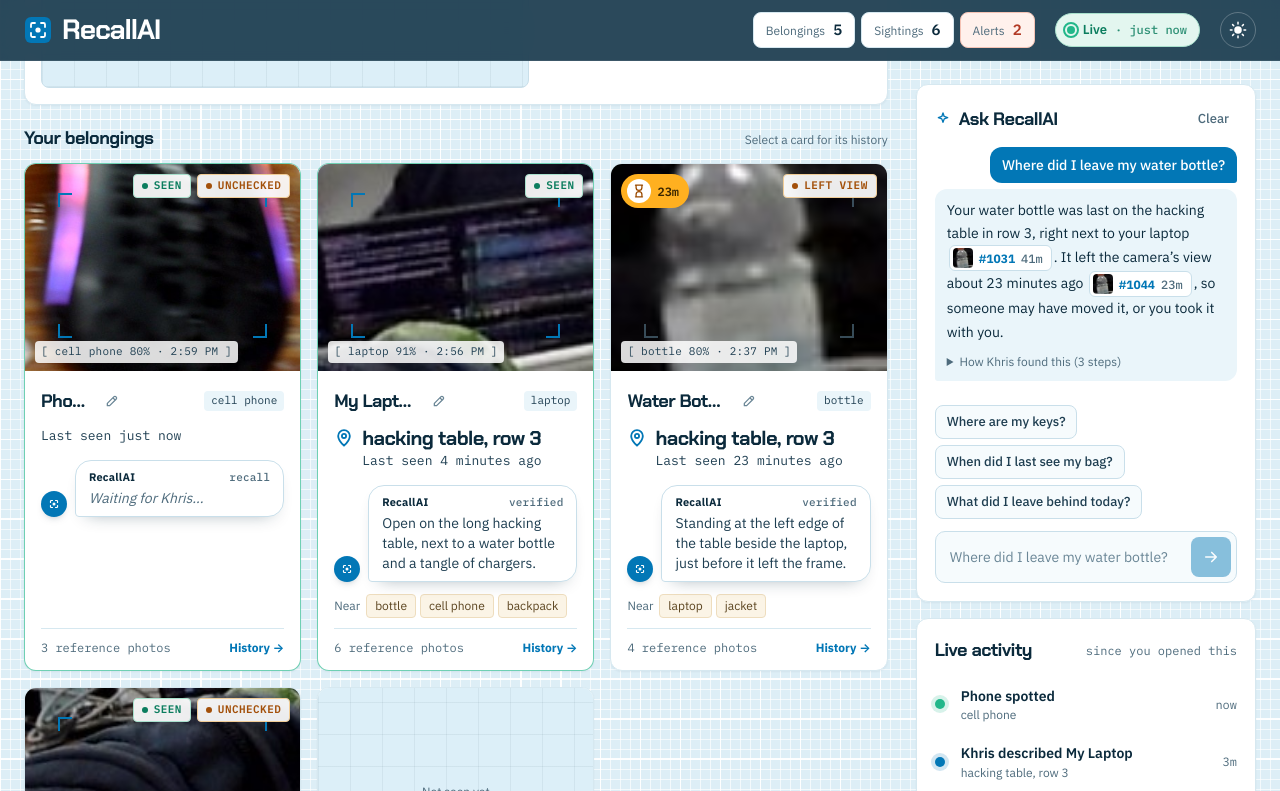
Test case: Dashboard › renaming belongings › renames from the pencil, shows the new name at once, and saves it
(page scrolled)
Click the button named "Rename My Laptop" at (439, 401), box [423,385,455,417]
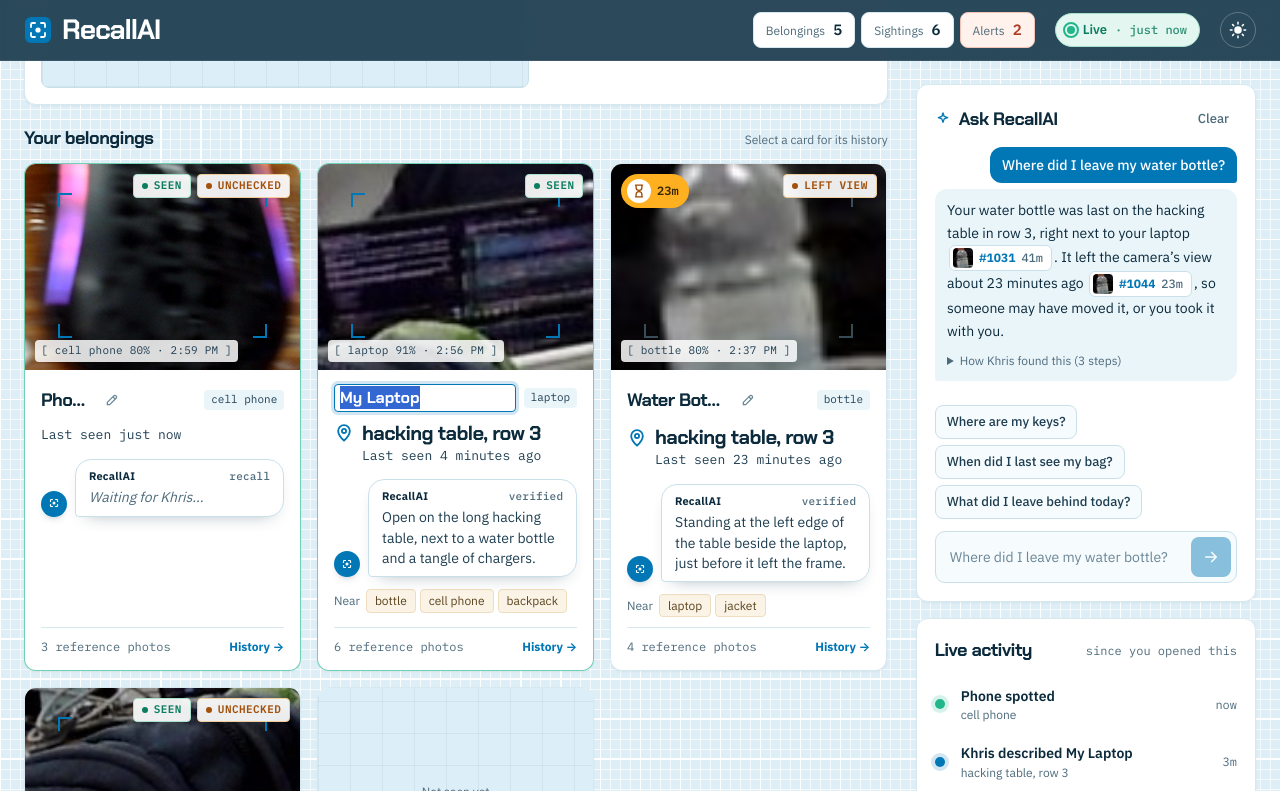
Replace the text in the field named "New name for My Laptop" with "Kent's work laptop" at (425, 398), box [334,385,516,412]
Then press Enter
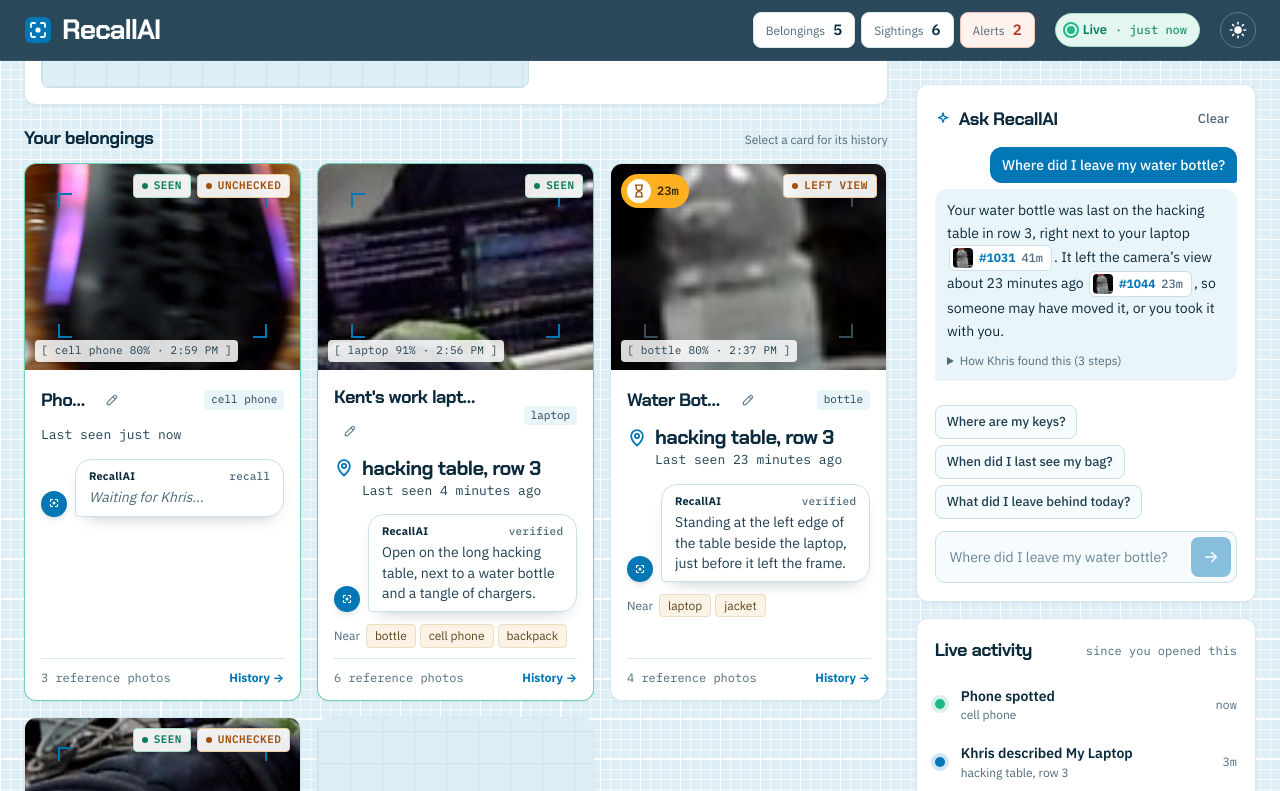
expect the button with aria-label "Kent's work laptop. Press Enter" is shown: met, box [334,385,480,411]
